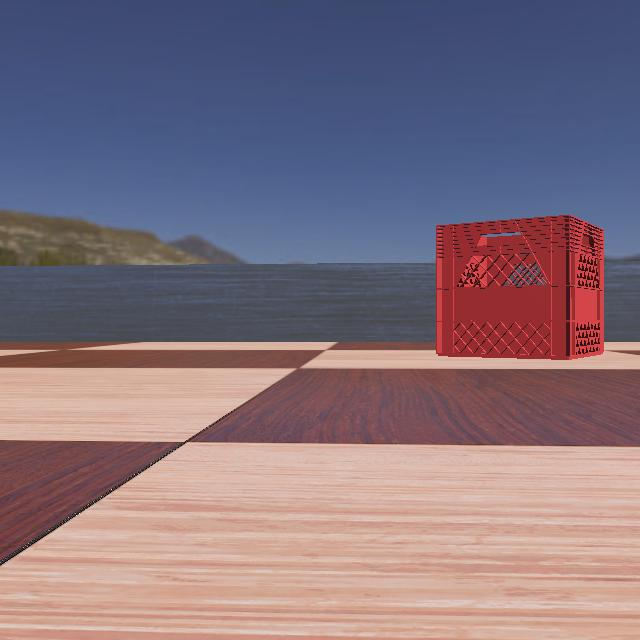plastic-crate: (420, 214, 640, 360)
